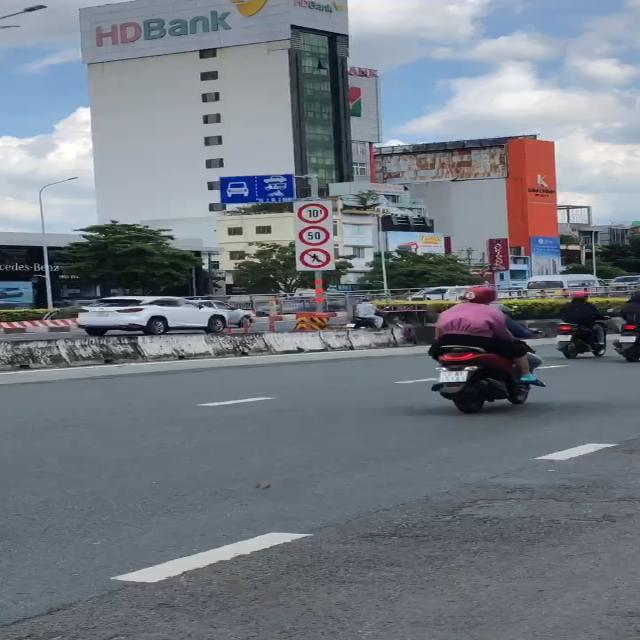Bien bao cam nguoi di bo: (298, 246, 337, 270)
Bien bao toc do toi da cho phep: (296, 225, 333, 246)
